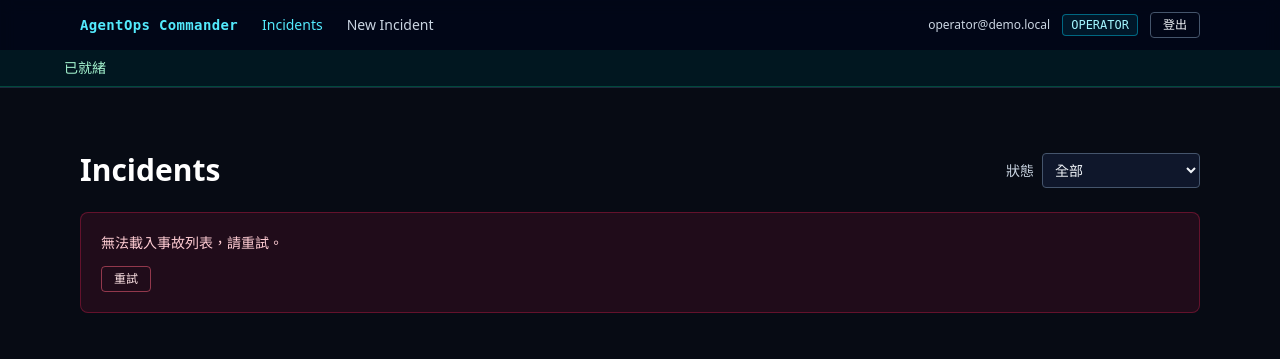
Test case: /incidents › 錯誤：友善訊息（不顯示原始例外）並可重試
The width and height of the screenshot is (1280, 359).
Check: the text "無法載入事故列表，請重試。" is shown, box 101,233 -> 283,252
Click the button "重試": (126, 279) 101,266 -> 151,292
Wait 60 ms
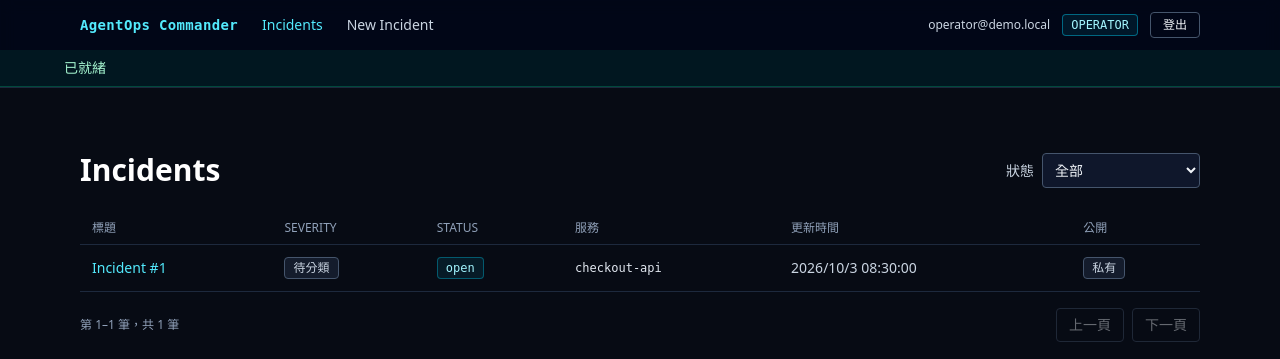
Check: the link "Incident #1" is shown, box 92,258 -> 167,277
Check: the text "無法載入事故列表，請重試。" is gone
